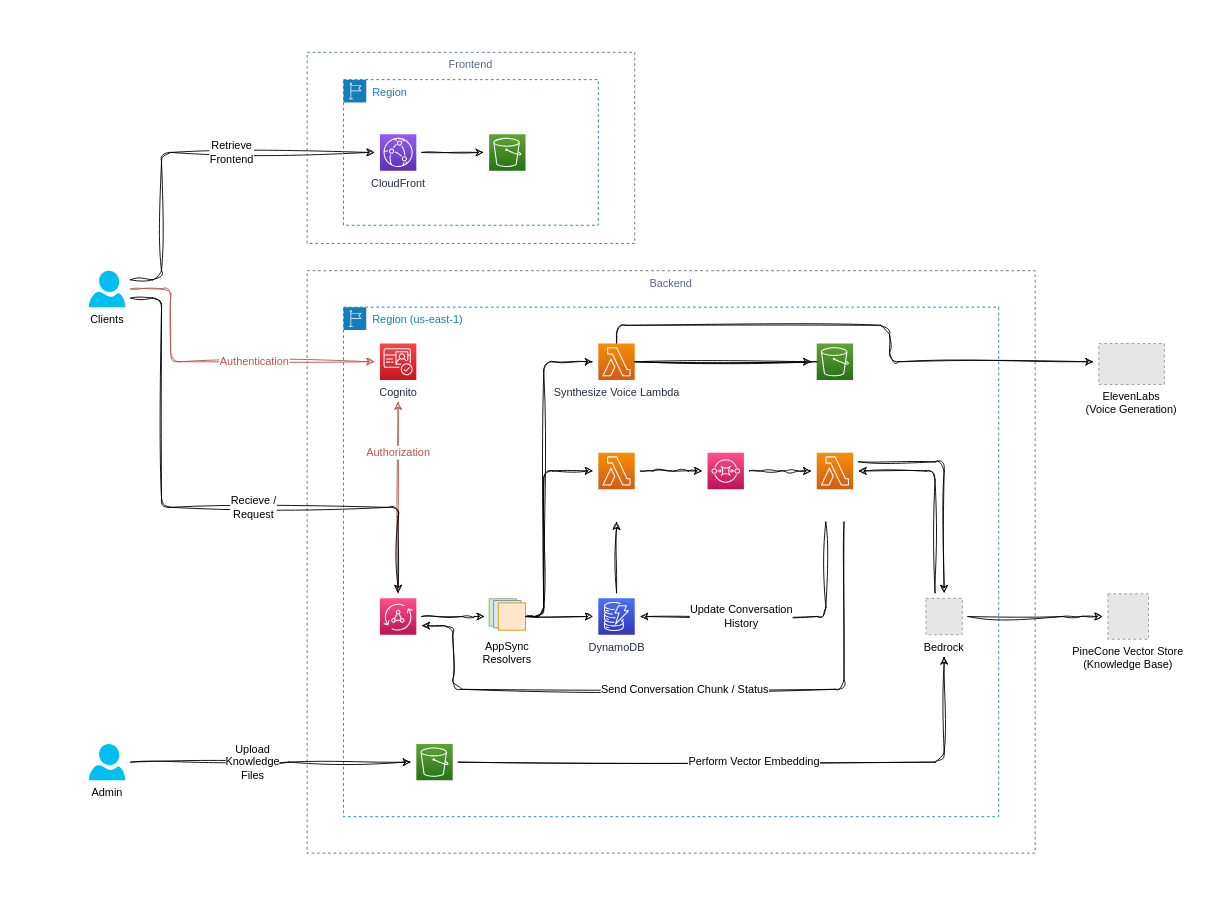
The diagram is 1232 pixels wide and 905 high, and some of its shapes have lost their labels. Grey dashed boxes stand in for pictures. The shapes that lost their labels are listed below. From the top down, each one's centre as x and y in pixels, then its label:
At (507,152): "S3".
At (834,361): "S3 (Audio Files)".
At (616,470): "Trigger Queue Lambda".
At (725,470): "SQS Prediction Queue".
At (834,470): "Process Prediction Lambda".
At (397,616): "AppSync API".
At (434,761): "S3 (Knowledge Base)".
